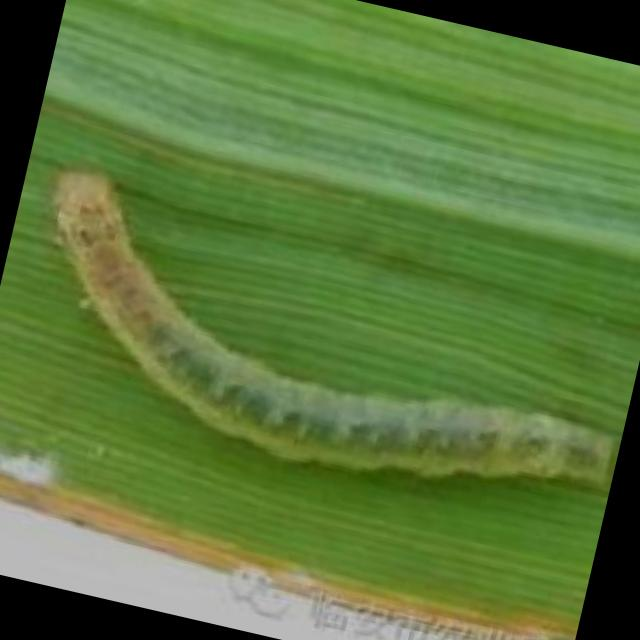leaf-folder: (0, 138, 640, 590)
